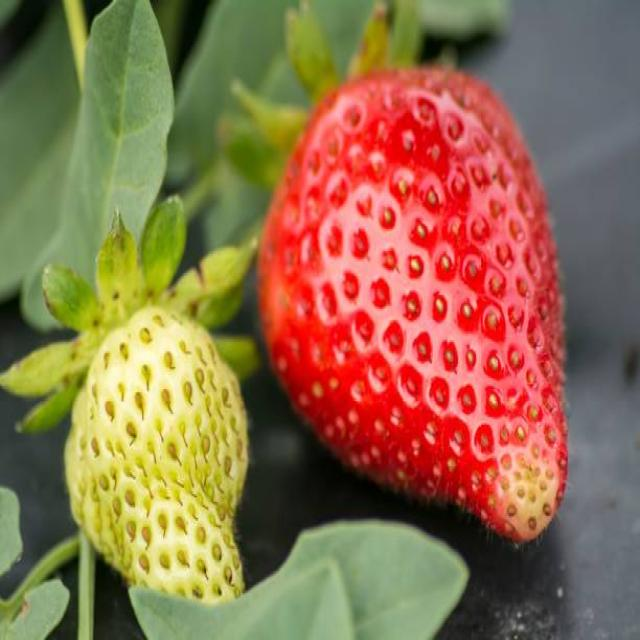Healthy Fruit: (258, 69, 567, 540), (67, 308, 250, 601)
